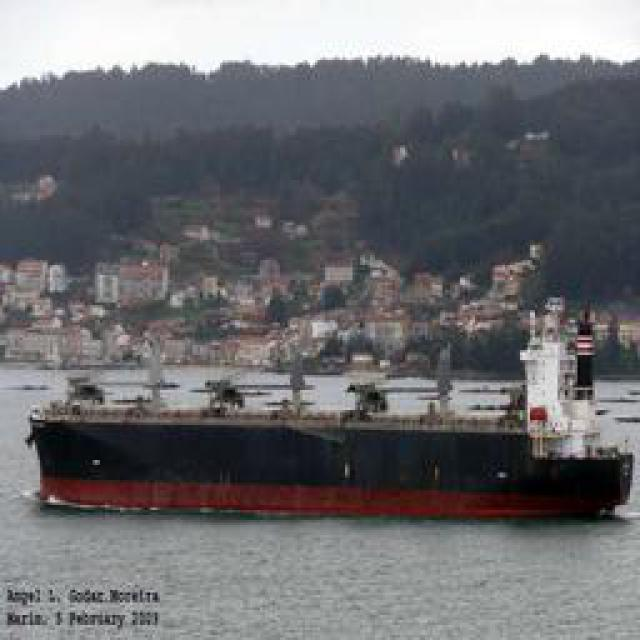Ship: (11, 368, 636, 523)
